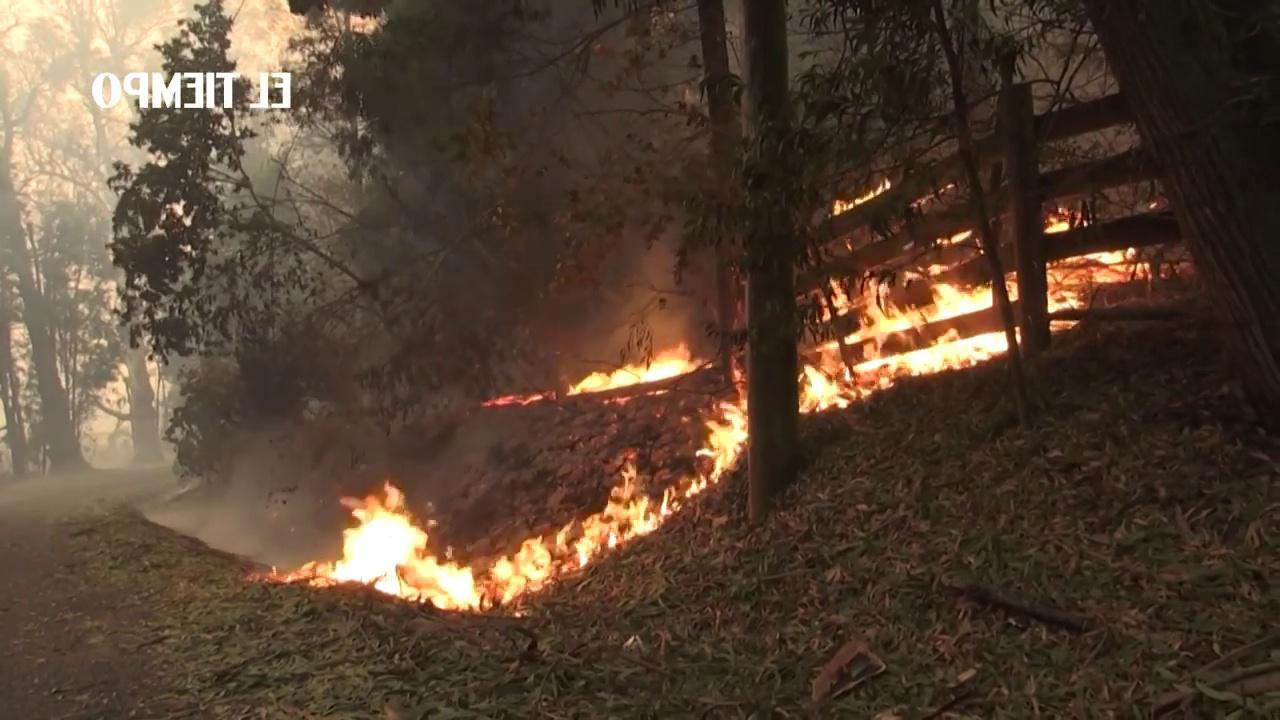Fire: (305, 450, 677, 614), (799, 253, 1015, 409), (687, 360, 749, 495), (1046, 249, 1144, 332), (569, 344, 703, 398), (831, 175, 895, 219), (481, 387, 554, 411), (1042, 203, 1078, 235)
